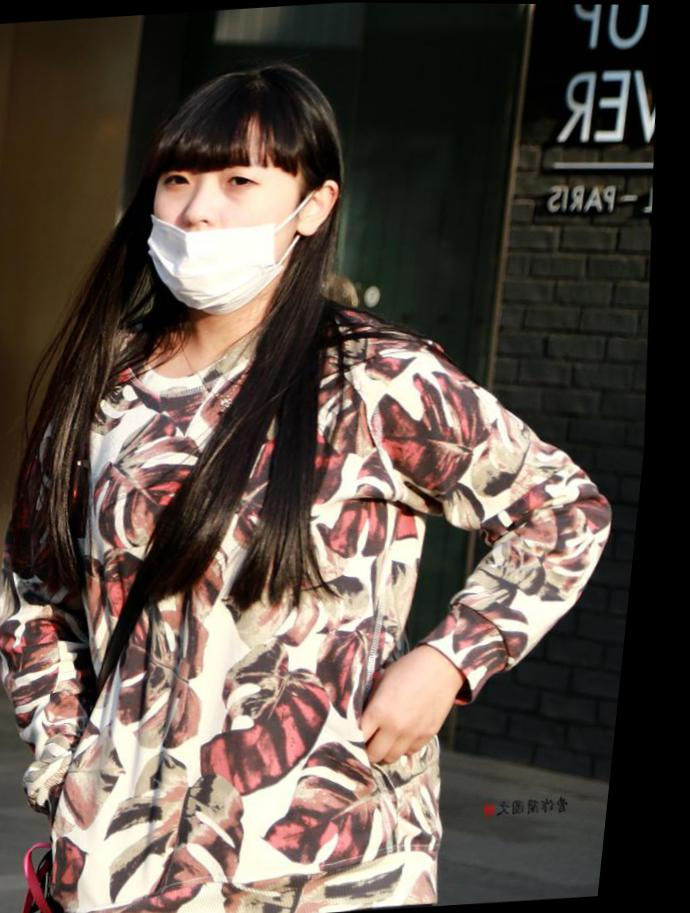WRONG: (132, 135, 322, 312)
